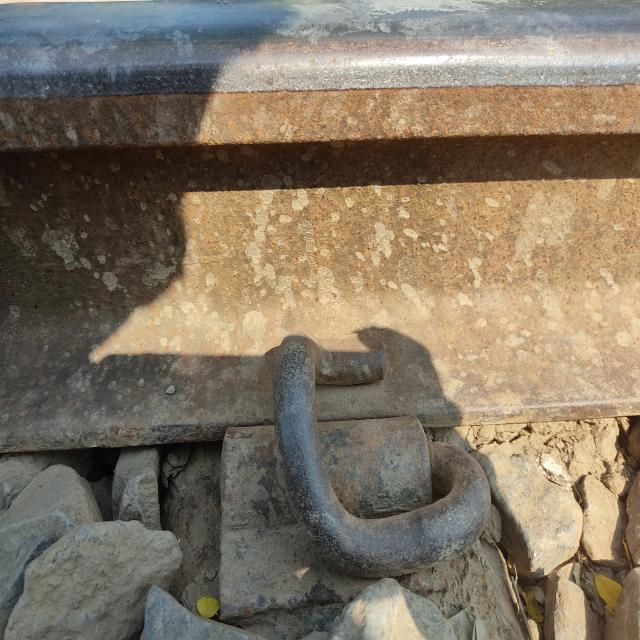No Fault: (221, 346, 472, 582)
